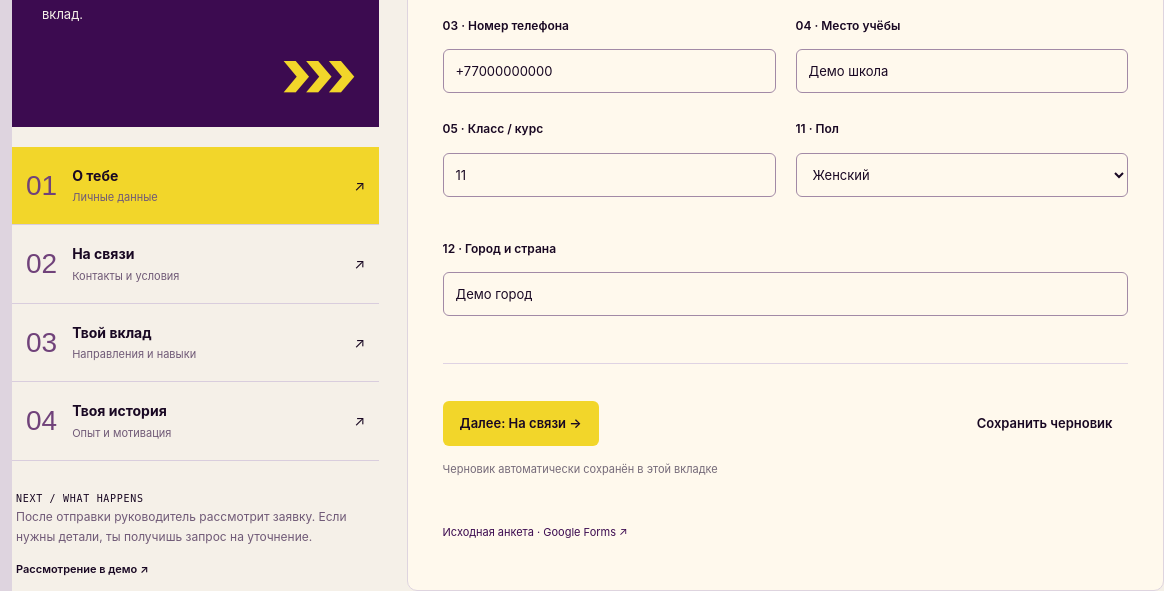
Scenario: full application workflow › retains all answers on failed submission and submits the reviewed snapshot on retry
(page scrolled)
What coordinates should you click on to do the following:
click the button "04 Твоя история Опыт и мотивация ↗"
I would click on:
 (119, 410)
Its box is [12,382,379,460].
(page scrolled)
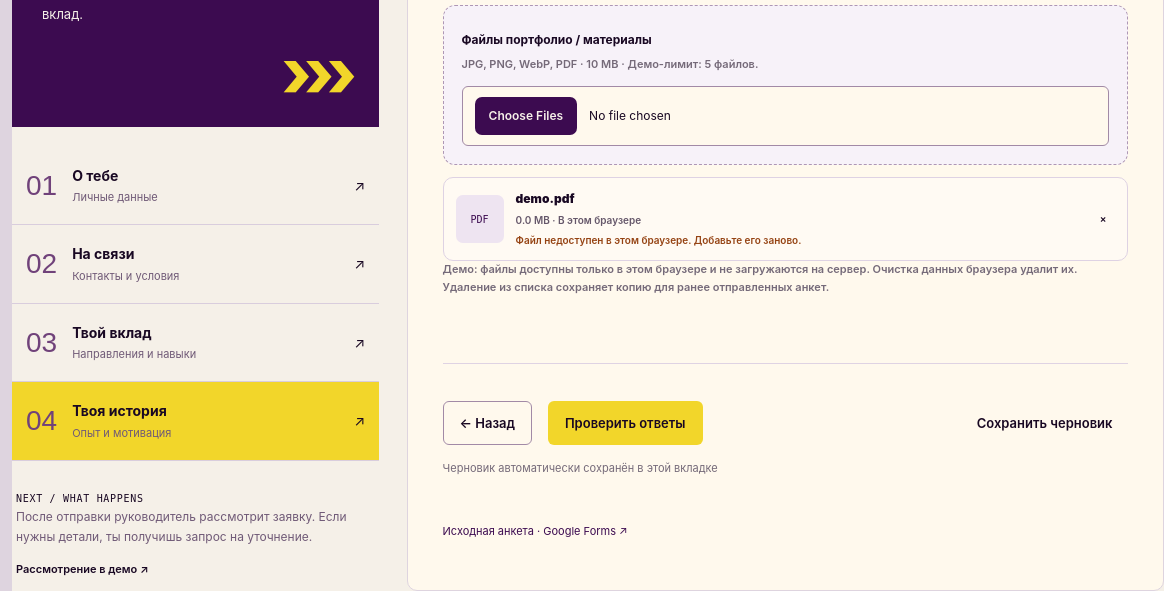
What coordinates should you click on to do the following:
click the button "Проверить ответы"
I would click on:
 (625, 423)
Its box is [548,401,702,445].
(page scrolled)
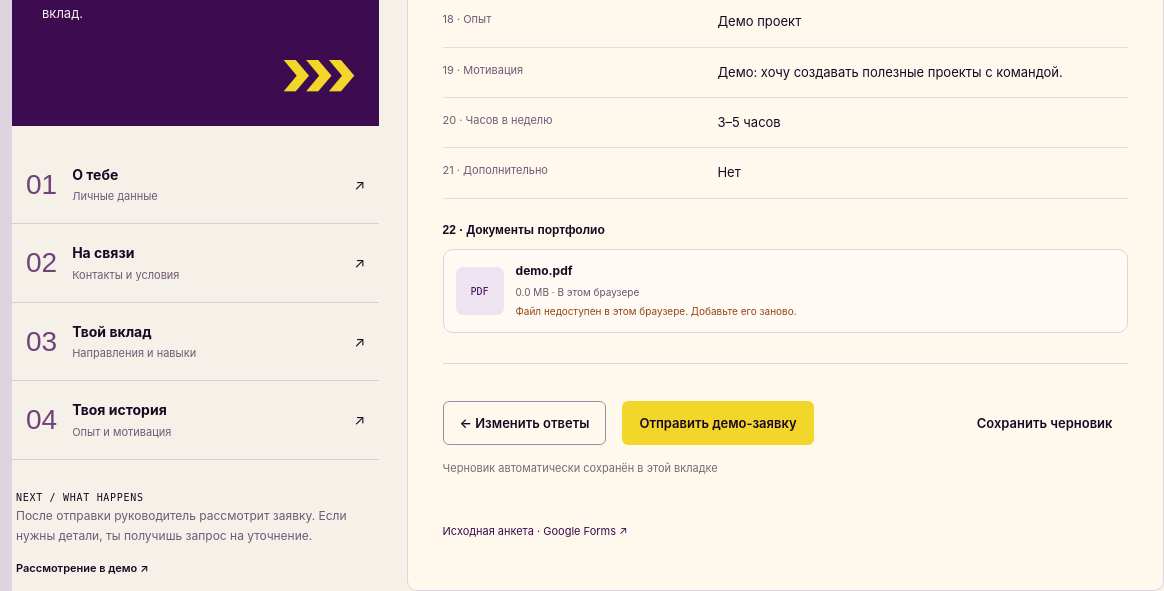
What coordinates should you click on to do the following:
click the button "Отправить демо-заявку"
I would click on:
 (718, 423)
Its box is [622,401,814,445].
(page scrolled)
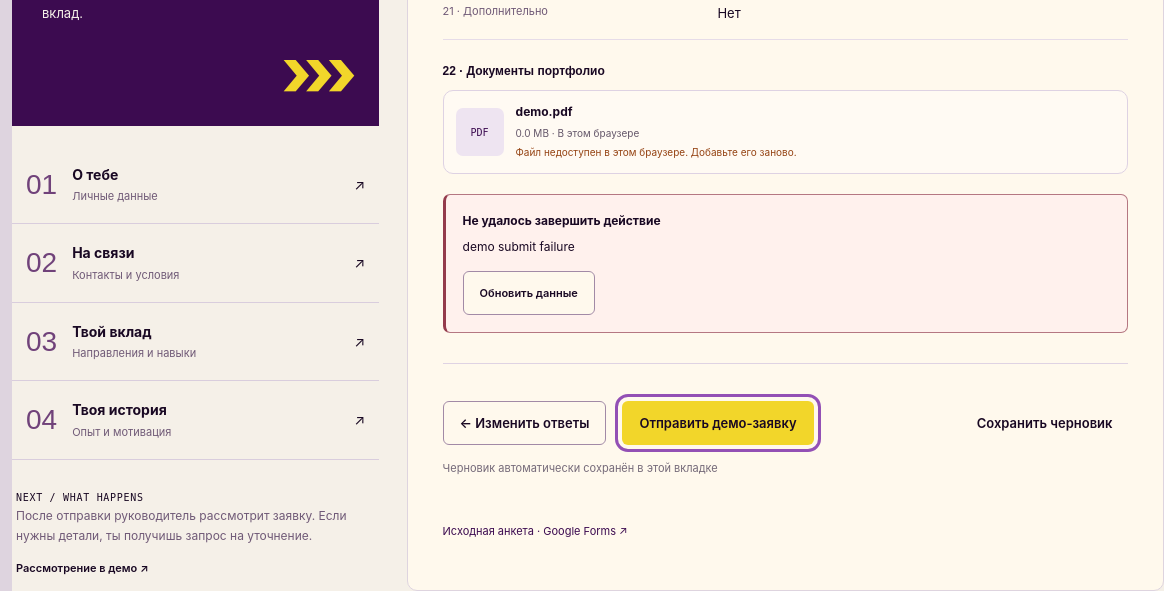
Now the text "demo submit failure" is shown, box [463,240,575,254]
What coordinates should you click on to do the following:
click the button "Отправить демо-заявку"
I would click on:
 (718, 423)
Its box is [622,401,814,445].
(page scrolled)
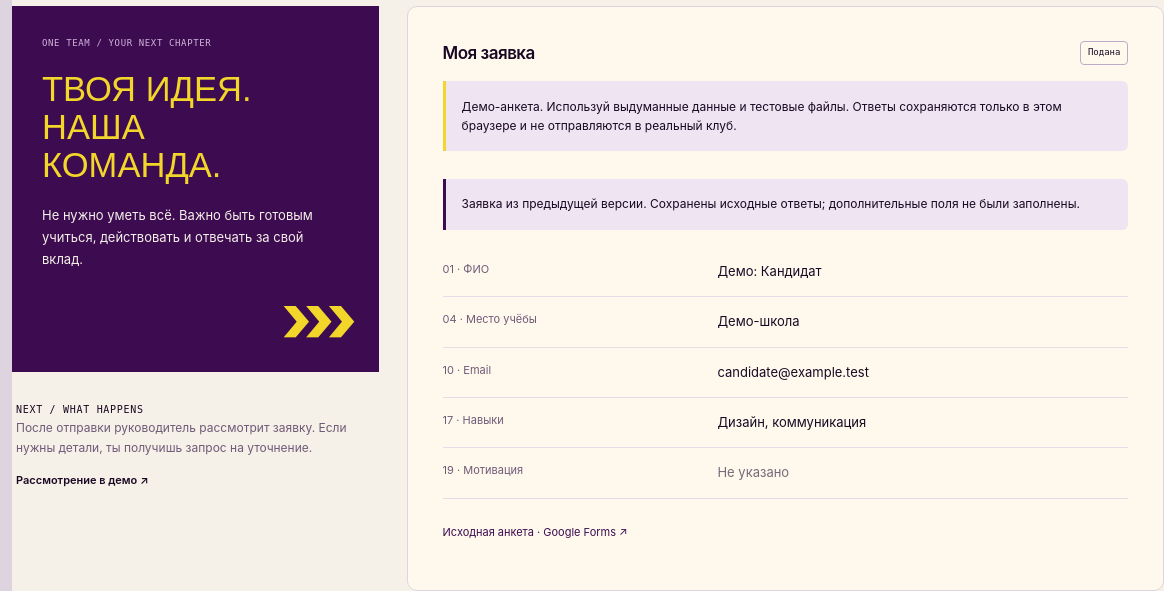
Now the button "Отправить демо-заявку" is gone
